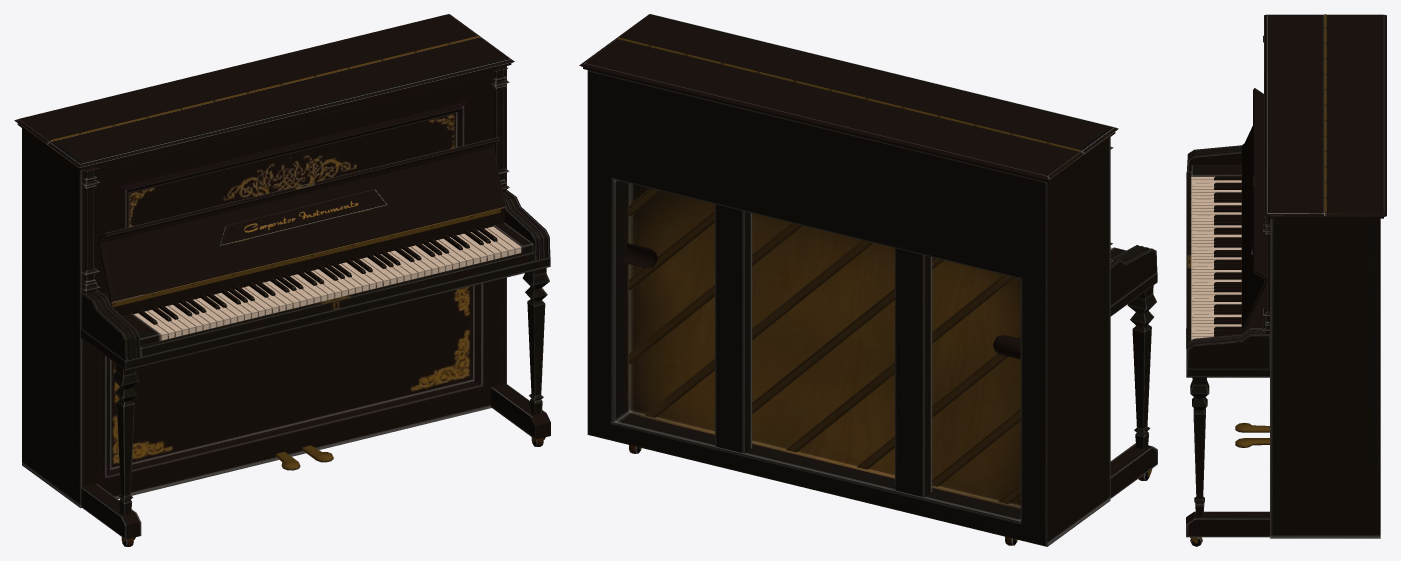
The model's file is PianoListo.fbx.
3 views of the same model, side by side, from view 1: azimuth 30°, elevation 25°; view 2: azimuth 150°, elevation 25°; view 3: azimuth 270°, elevation 25° (orthographic). The views are drawn at different scales.
Visible parts, largest first — view 1: Piano, Atril; view 2: Piano; view 3: Piano.
Boxes of the visible parts, x1,y1,x2,y2 form: Piano: (14, 14, 550, 546); Atril: (219, 189, 387, 245); Piano: (579, 14, 1157, 546); Piano: (1186, 14, 1386, 546).
Size of the model in its own units: 150 by 118 by 63.46.
